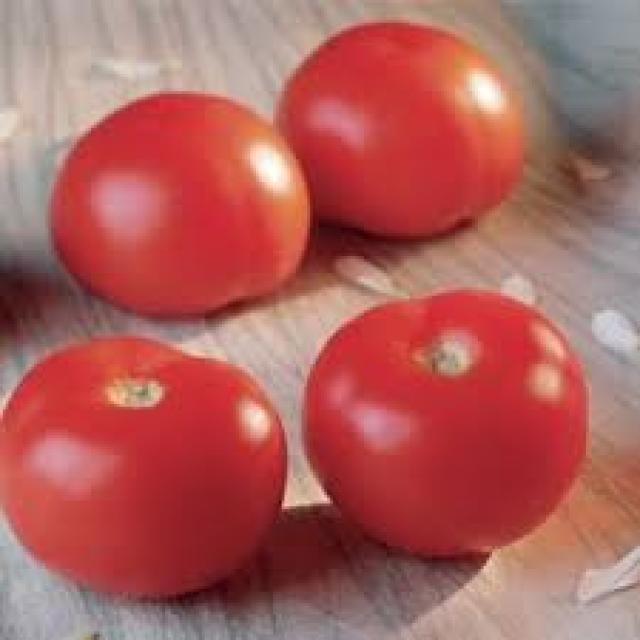Fresh_tomato: (3, 352, 293, 573), (329, 311, 589, 538), (72, 95, 274, 317), (299, 53, 540, 225)
